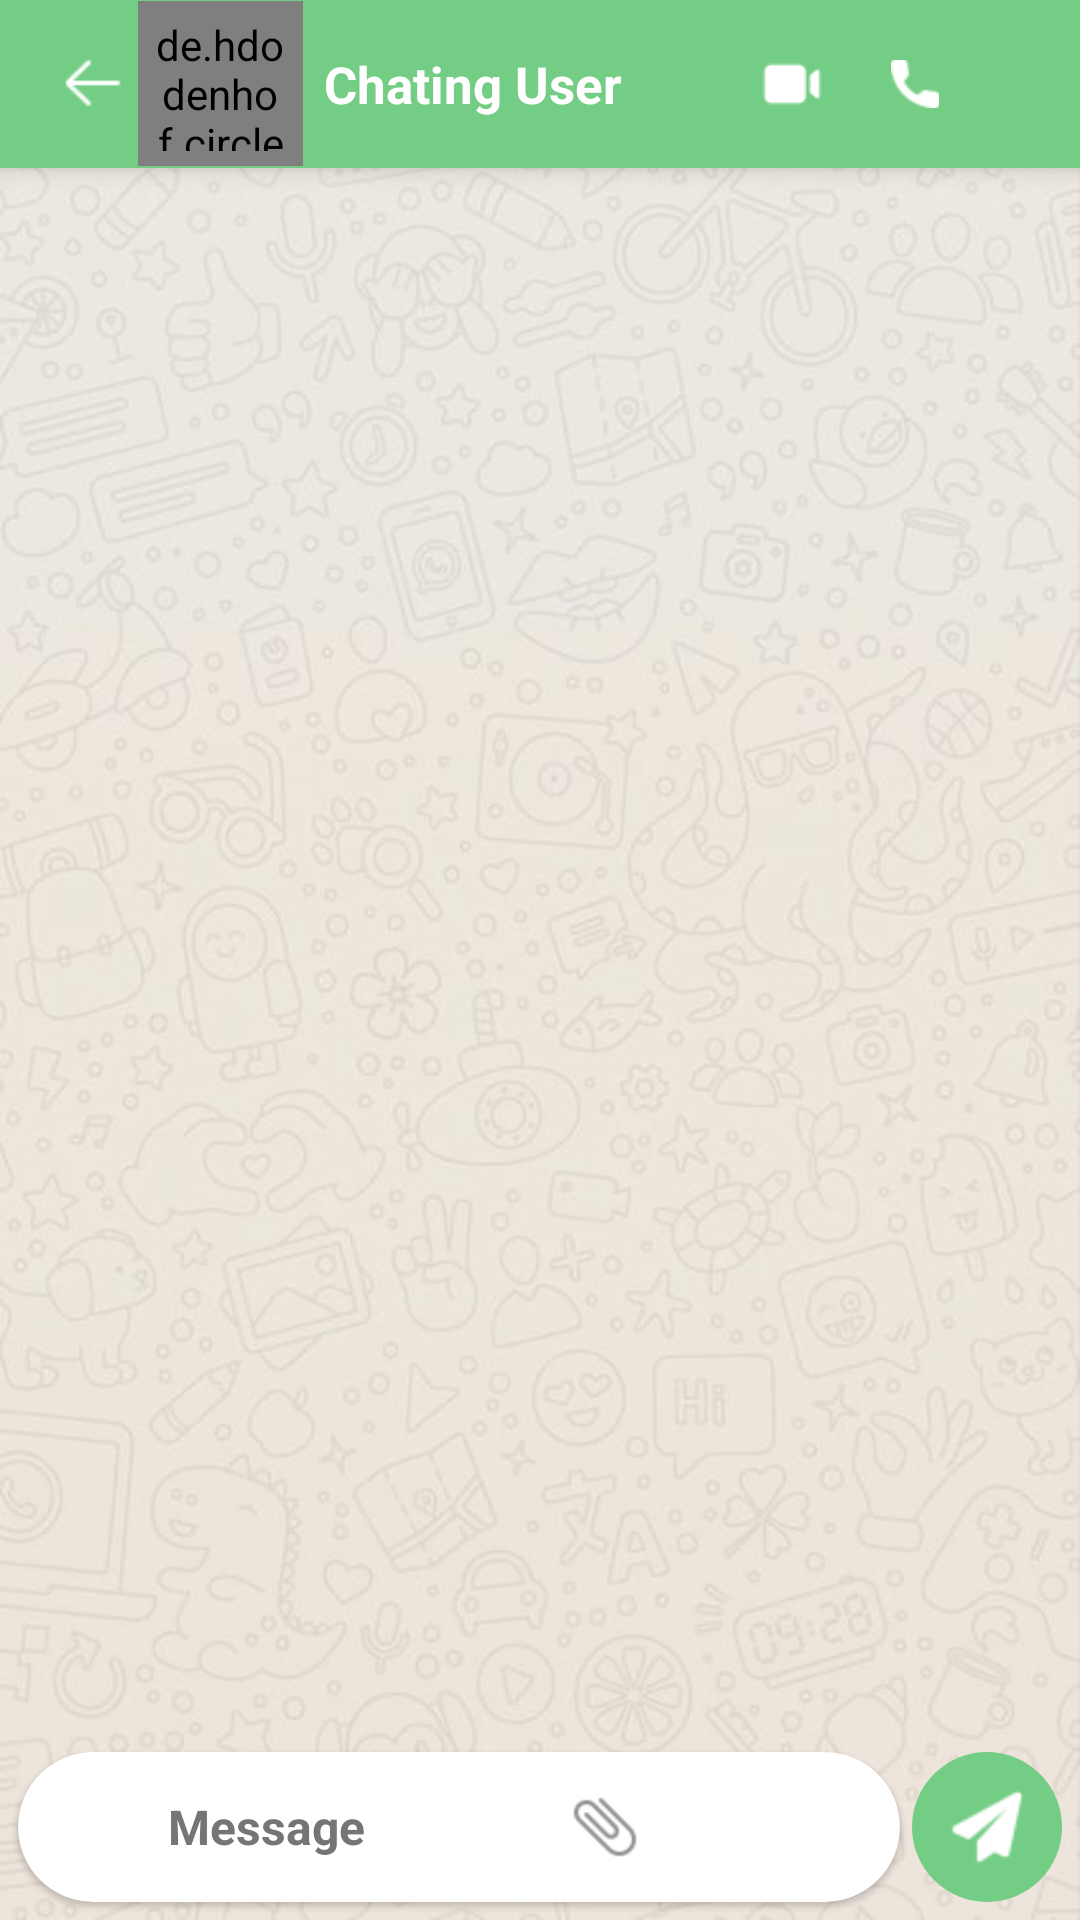

Named icons in this screenshot (1080px×1920px) and their bounding boxes, [x1,y1,x2,y2]:
attachment: [574,1798,636,1856]
back arrow: [65,60,121,106]
call chating screen: [891,60,939,108]
sendbtn: [912,1752,1062,1902]
video call: [763,63,821,105]
